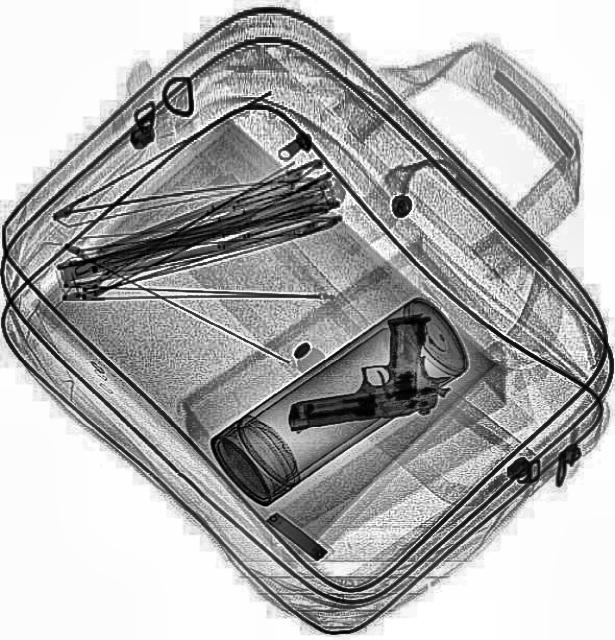Gun: (274, 312, 454, 430)
